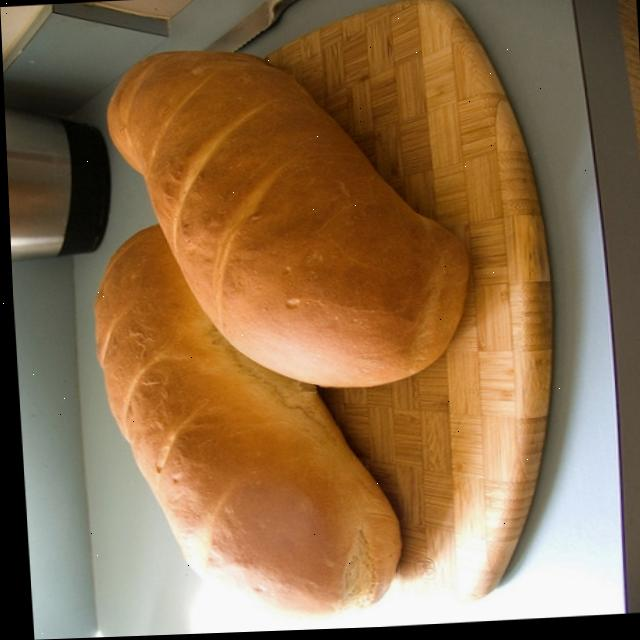面包点心: (24, 10, 532, 628)
